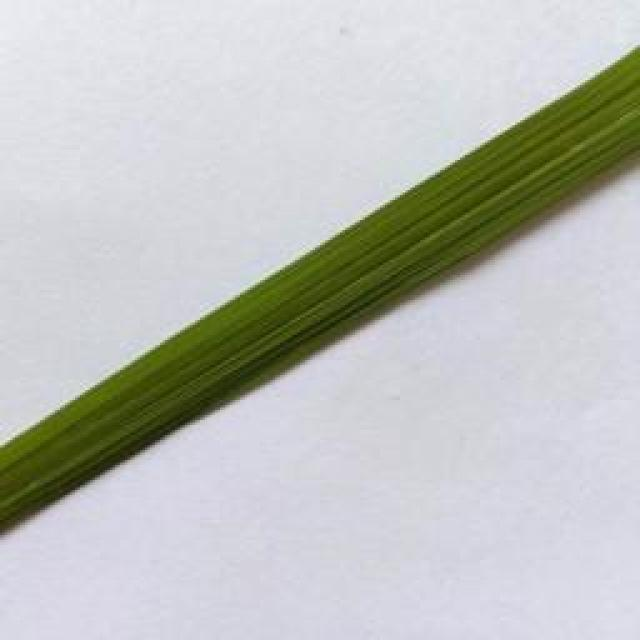Healthy-Plant: (0, 39, 640, 530)
